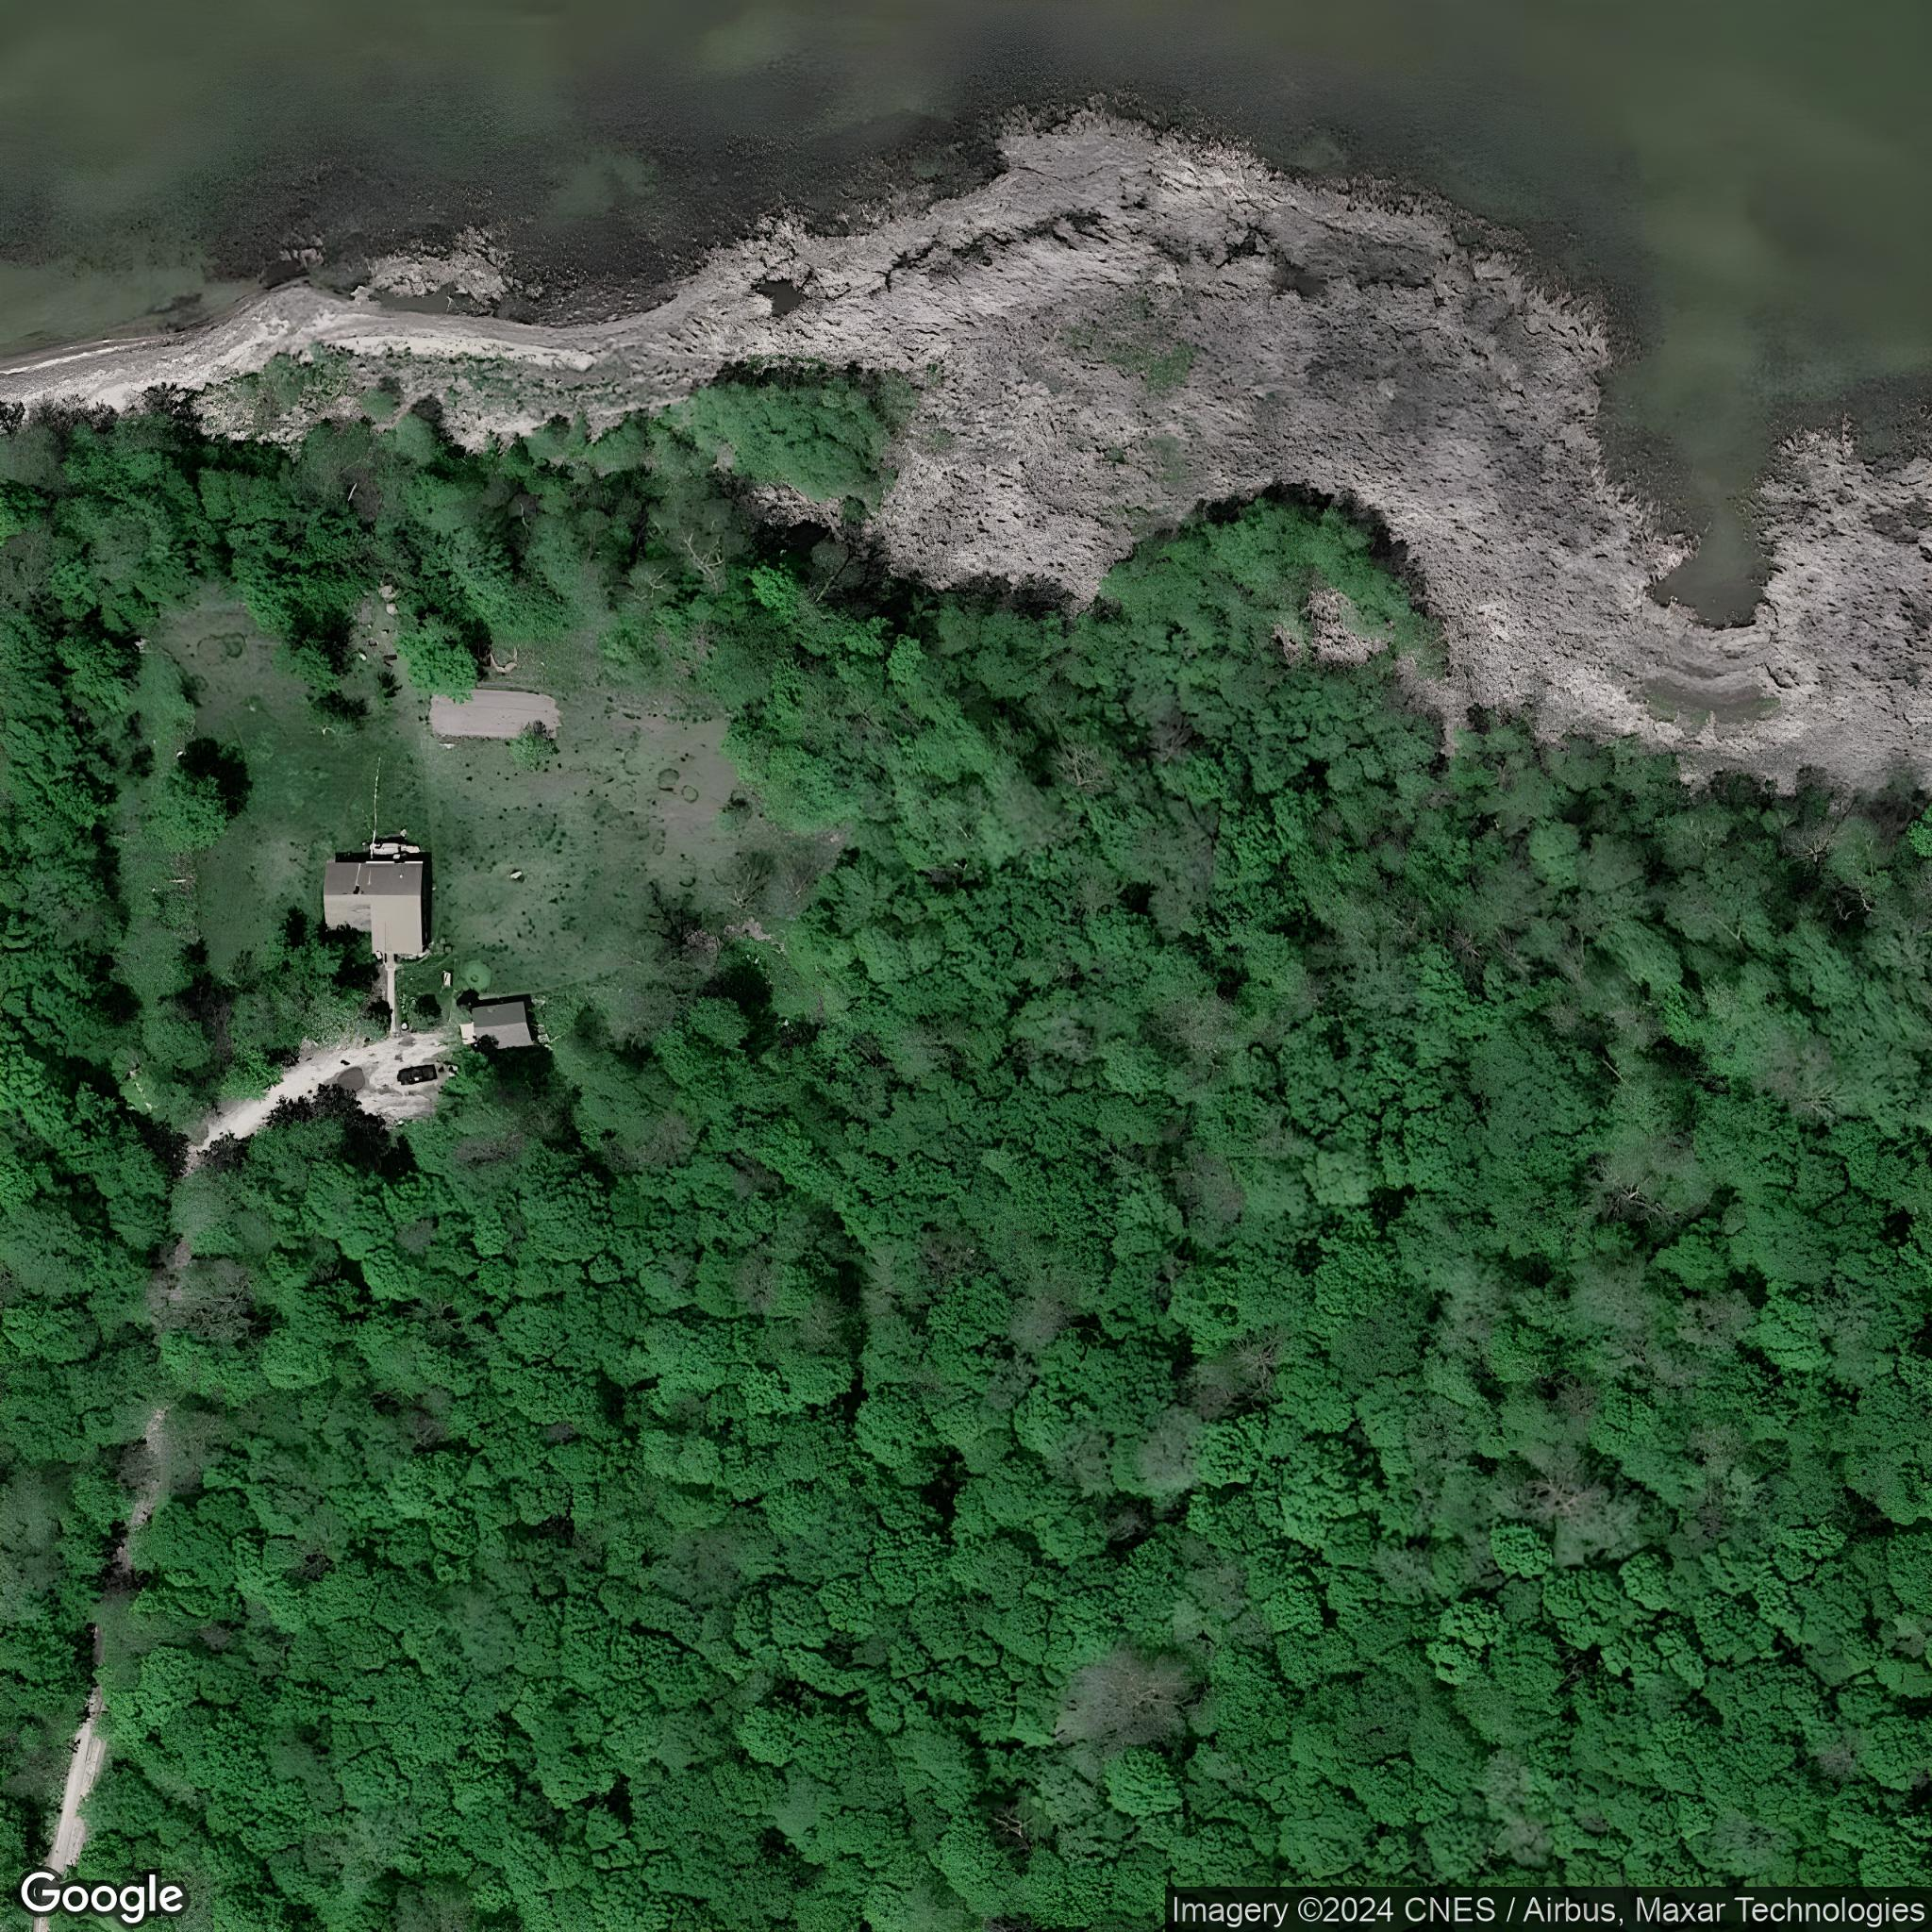Garage: (471, 1000, 533, 1053)
House: (324, 860, 423, 954)
